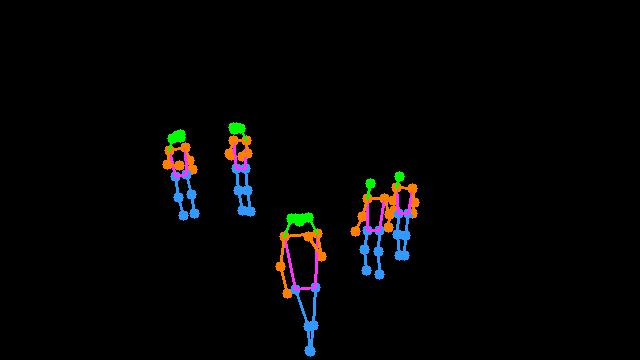normal: (156, 99, 264, 238), (342, 152, 434, 292)
